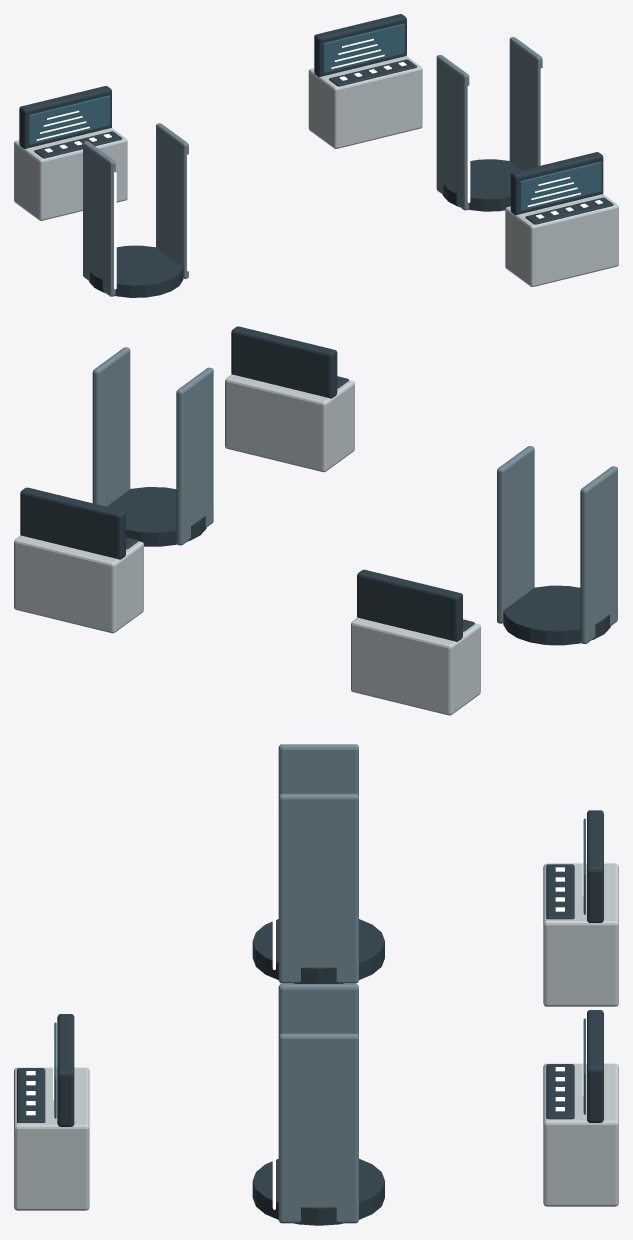
The model's file is gym-interior.glb.
3 renders of one model, top to bottom at view 1: azimuth 30°, elevation 25°; view 2: azimuth 150°, elevation 25°; view 3: azimuth 270°, elevation 25°, orthographic. The views are drawn at different scales.
Visible parts, largest first — view 1: Furniture_Ivory, Furniture_Steel, Furniture_Dark, Furniture_Glass, Furniture_Accent; view 2: Furniture_Ivory, Furniture_Dark, Furniture_Steel, Furniture_Accent; view 3: Furniture_Steel, Furniture_Ivory, Furniture_Dark, Furniture_Accent, Furniture_Glass.
Boxes of the visible parts, box(x1,y1,x2,y2) form: Furniture_Ivory: box(14, 56, 618, 286); Furniture_Steel: box(83, 37, 542, 296); Furniture_Dark: box(19, 14, 613, 297); Furniture_Glass: box(28, 23, 601, 211); Furniture_Accent: box(36, 38, 602, 289); Furniture_Ivory: box(14, 374, 480, 715); Furniture_Dark: box(20, 326, 610, 645); Furniture_Steel: box(92, 347, 617, 643); Furniture_Accent: box(130, 356, 618, 608); Furniture_Steel: box(278, 744, 358, 1223); Furniture_Ivory: box(14, 863, 618, 1210); Furniture_Dark: box(17, 810, 603, 1225); Furniture_Accent: box(26, 757, 583, 1209); Furniture_Glass: box(54, 818, 585, 1118).
Size of the model in its own units: 7.4 by 2.2 by 6.4.
